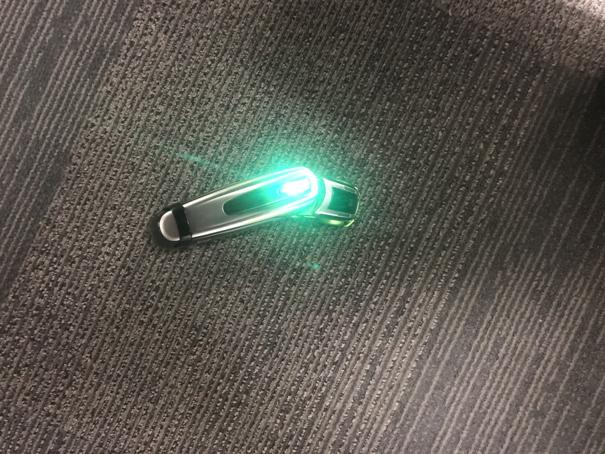Freewheel: (153, 164, 361, 245)
